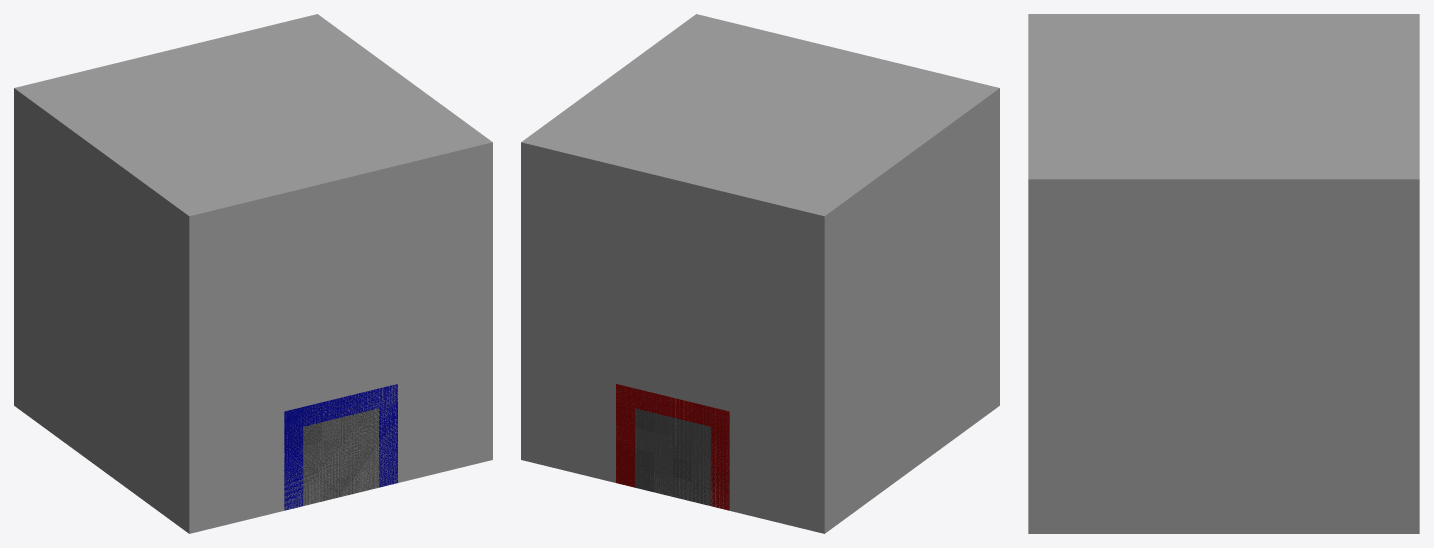
The model's file is turbinebblue.obj.
3 renders of one model, left to right at view 1: azimuth 30°, elevation 25°; view 2: azimuth 150°, elevation 25°; view 3: azimuth 270°, elevation 25°, orthographic. The views are drawn at different scales.
Visible parts, largest first — view 1: Minecraft_Block_Cube, main; view 2: Minecraft_Block_Cube, main; view 3: Minecraft_Block_Cube.
Part boxes in pixels (x1,y1,x2,y2): Minecraft_Block_Cube: (14, 14, 492, 533); main: (284, 384, 397, 510); Minecraft_Block_Cube: (521, 14, 999, 533); main: (616, 384, 729, 510); Minecraft_Block_Cube: (1028, 14, 1419, 533).
Bounding box in the file's own units: 1 × 1 × 1.
2 materials, 1 textured.
